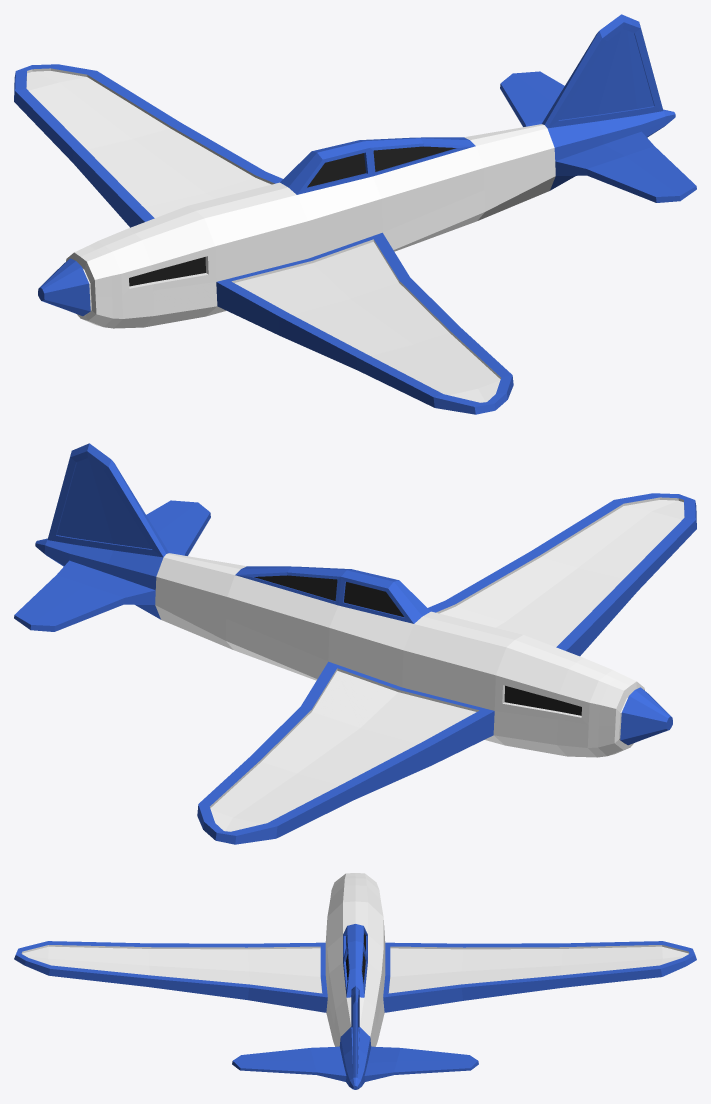
Rendered from aviao.fbx.
3 renders of one model, top to bottom at view 1: azimuth 30°, elevation 25°; view 2: azimuth 150°, elevation 25°; view 3: azimuth 270°, elevation 25°, orthographic. The views are drawn at different scales.
Parts seen in each view (by area): view 1: Cube; view 2: Cube; view 3: Cube.
Boxes of the visible parts, box(x1,y1,x2,y2) form: Cube: box(14, 14, 696, 414); Cube: box(14, 443, 696, 844); Cube: box(14, 873, 696, 1089).
Bounding box in the file's own units: 1055 × 312 × 1342.
